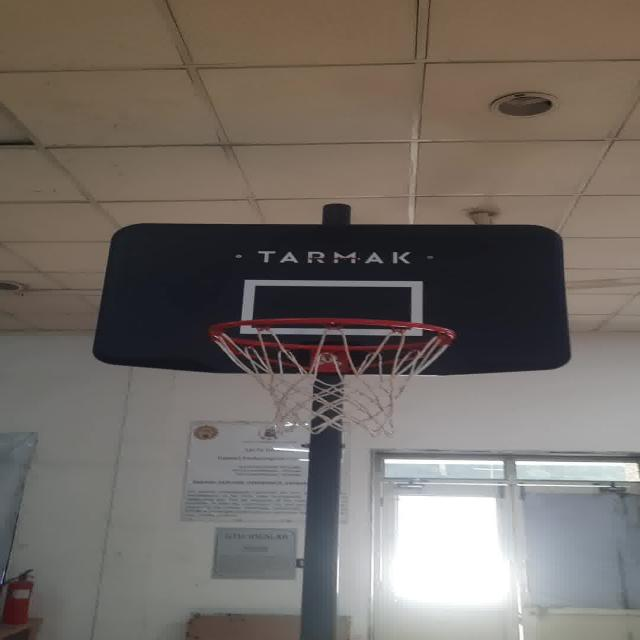objects: (206, 314, 460, 434), (247, 281, 424, 334)
